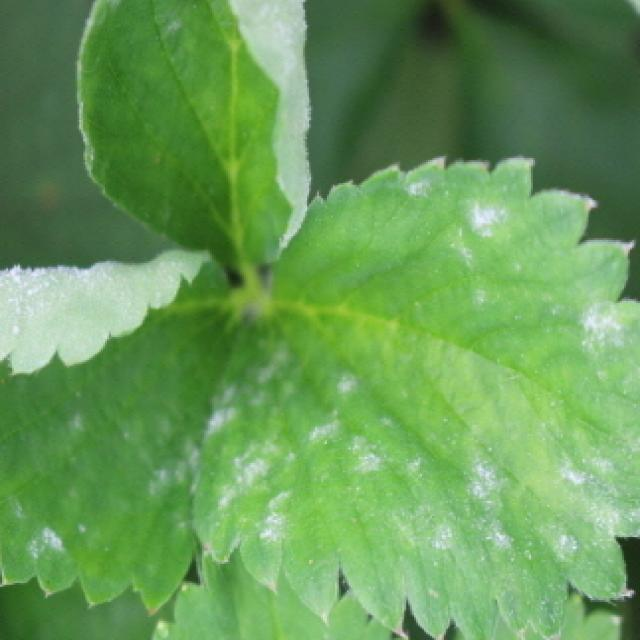Powdery Mildew Leaf: (187, 153, 640, 640), (0, 247, 254, 621), (75, 0, 314, 282)
